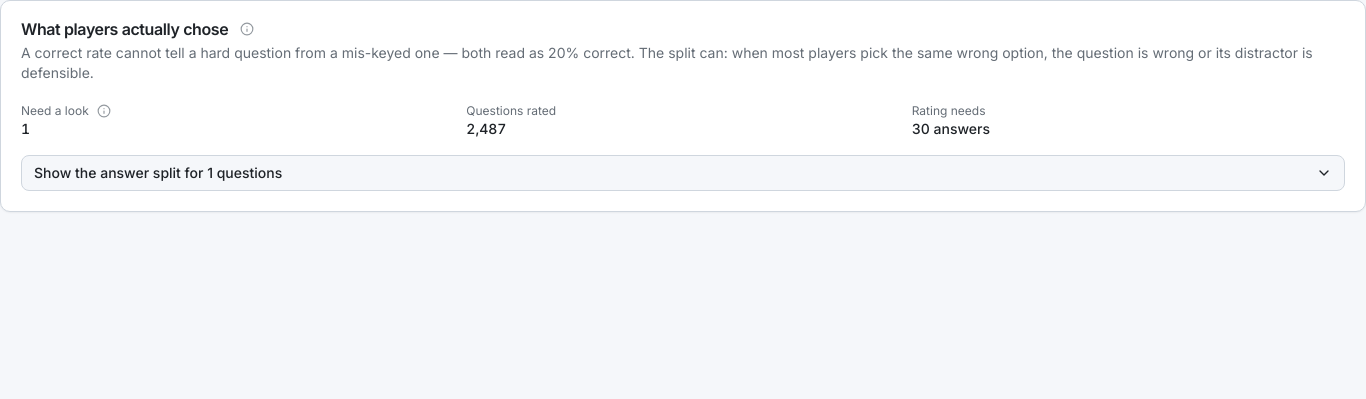
Test case: questionQuality › shows every option, not only the winner
The image size is (1366, 399).
Click the button "Show the answer split for 1 questions". click: click(158, 172)
box: [21,155,1345,191]
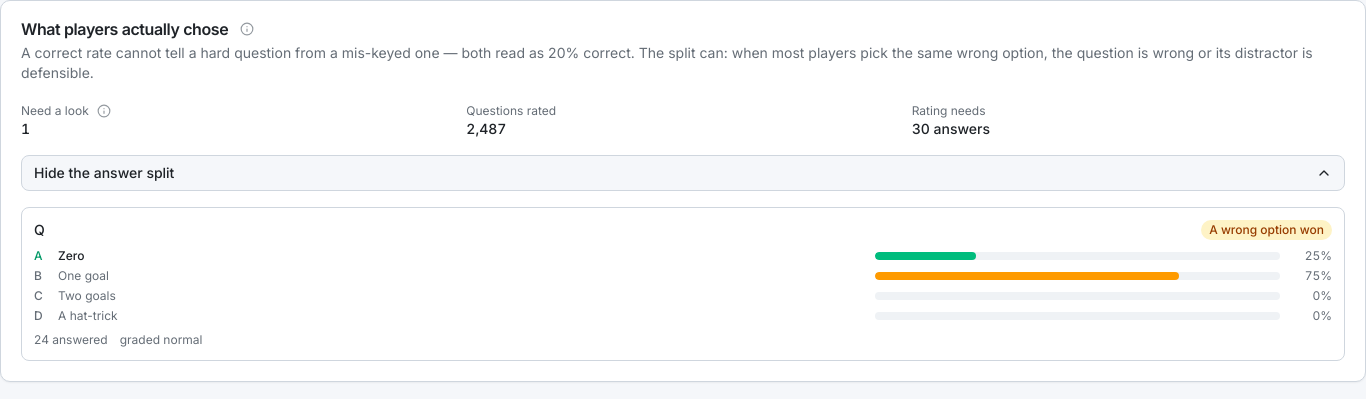
Check: the text "75%" is shown, box [1305,268,1332,283]
Check: the text "25%" is shown, box [1305,248,1332,263]
